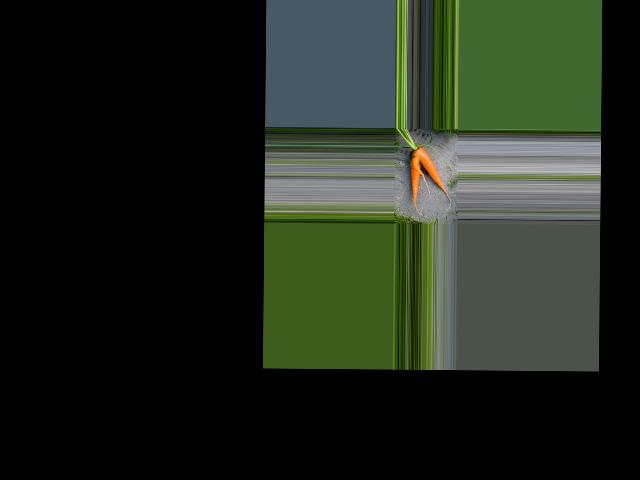carrot: (403, 153, 427, 214)
